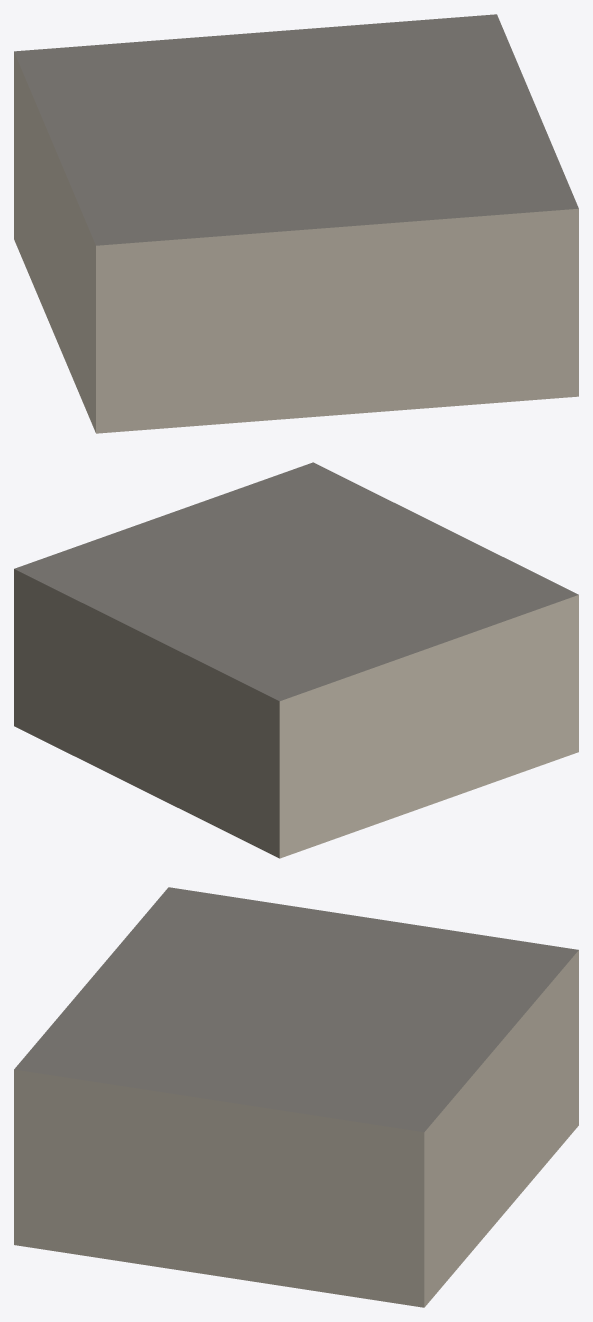
The picture shows the model from 3 angles, top to bottom: view 1: azimuth 30°, elevation 25°; view 2: azimuth 150°, elevation 25°; view 3: azimuth 270°, elevation 25°; orthographic projection. The views are drawn at different scales.
Parts seen in each view (by area): view 1: HP-w858839009; view 2: HP-w858839009; view 3: HP-w858839009.
Part boxes in pixels (x1,y1,x2,y2): HP-w858839009: (14,14,578,433); HP-w858839009: (14,462,578,858); HP-w858839009: (14,887,578,1307).
Size of the model in its own units: 53.92 by 18 by 52.52.
